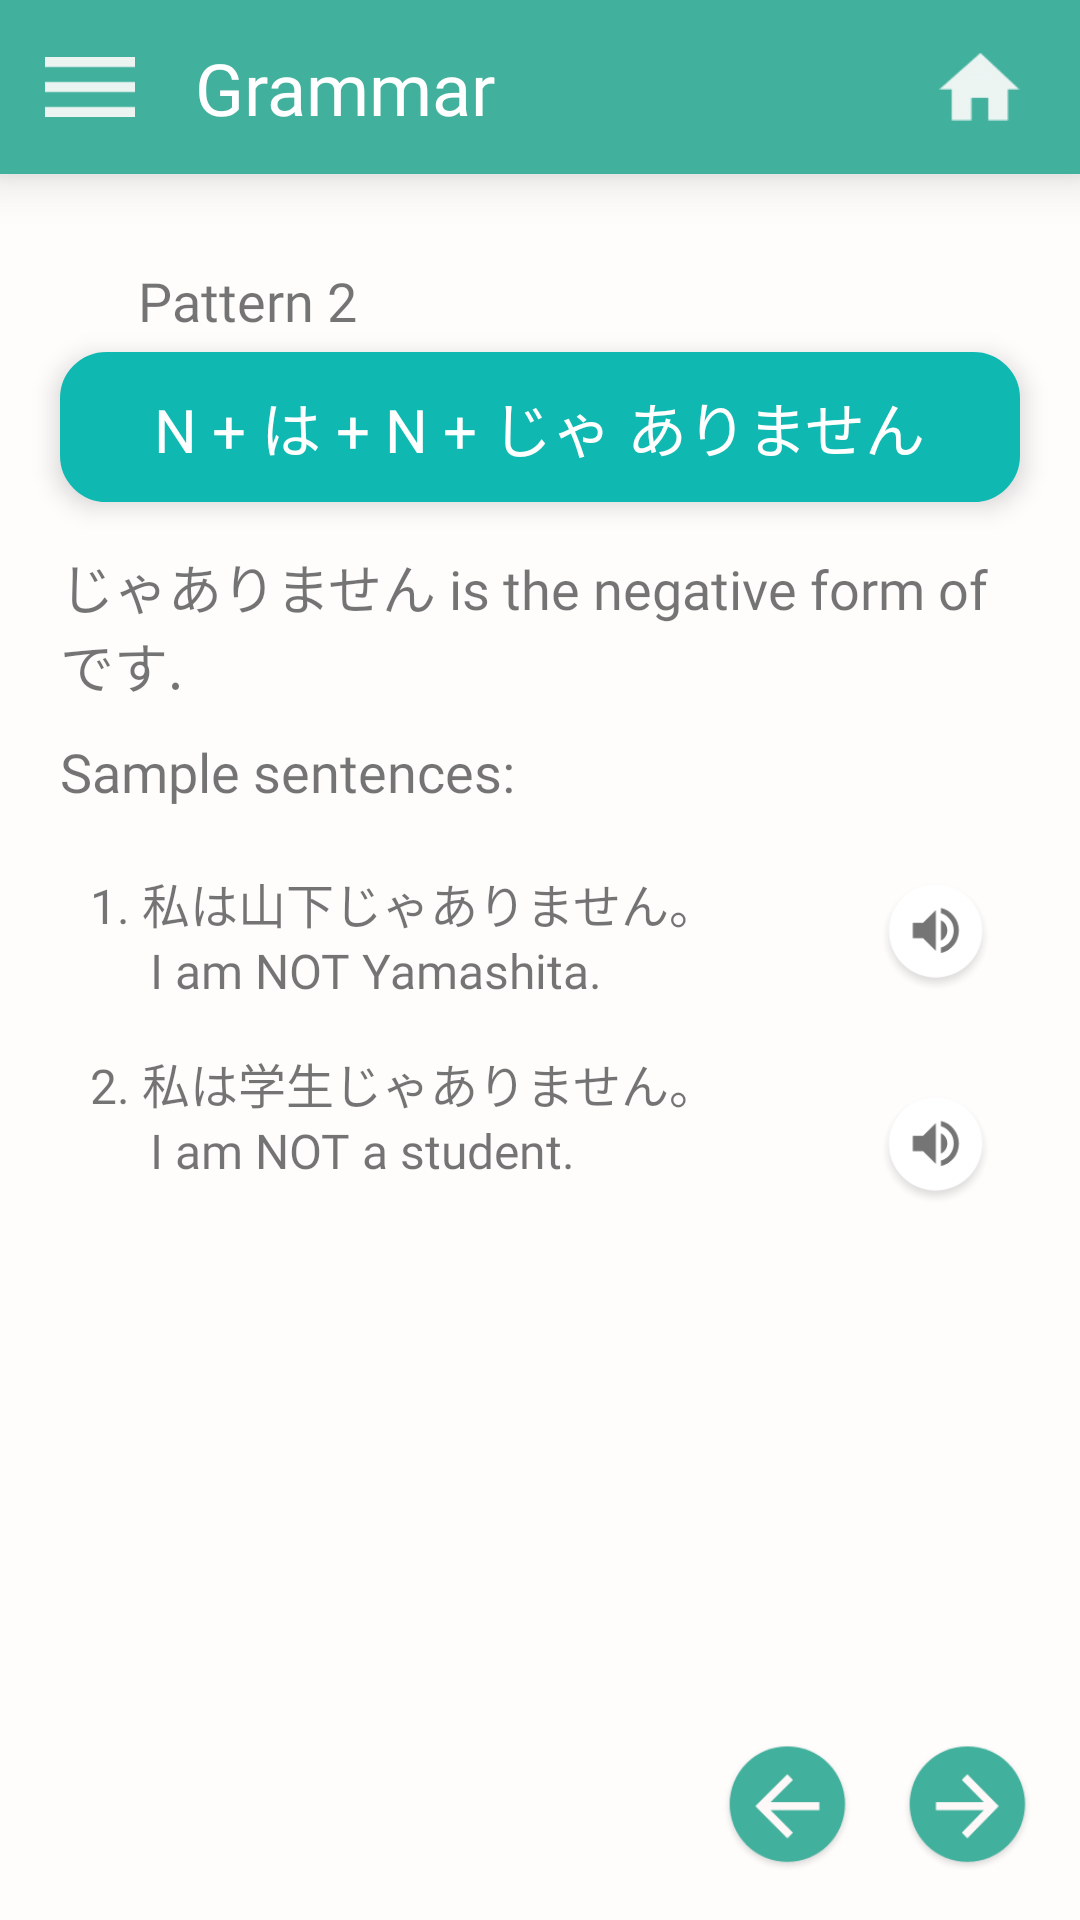

Named icons in this screenshot (1080 × 1920) and their centers, point (x, y):
audio grammar: point (938, 944), point (936, 1157)
back: point (787, 1805)
forward: point (967, 1805)
home: point (979, 87)
